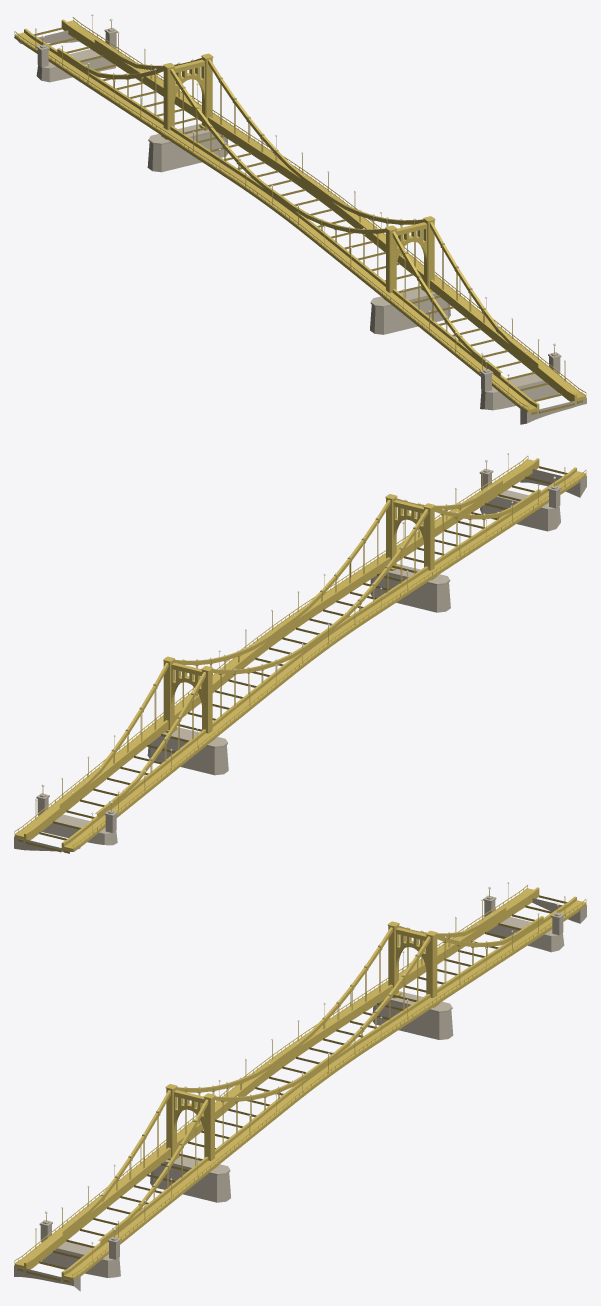
File: pit-roberto-clemente-bridge.detail.glb
3 renders of one model, top to bottom at view 1: azimuth 30°, elevation 25°; view 2: azimuth 150°, elevation 25°; view 3: azimuth 330°, elevation 25°, orthographic.
Visible parts, largest first — view 1: Roberto Clemente Bridge; view 2: Roberto Clemente Bridge; view 3: Roberto Clemente Bridge.
Part boxes in pixels (left/top/right/bottom): Roberto Clemente Bridge: left=14, top=14, right=586, bottom=424; Roberto Clemente Bridge: left=14, top=453, right=586, bottom=853; Roberto Clemente Bridge: left=14, top=882, right=586, bottom=1291.
Size of the model in its own units: 26.1 by 32.35 by 303.
